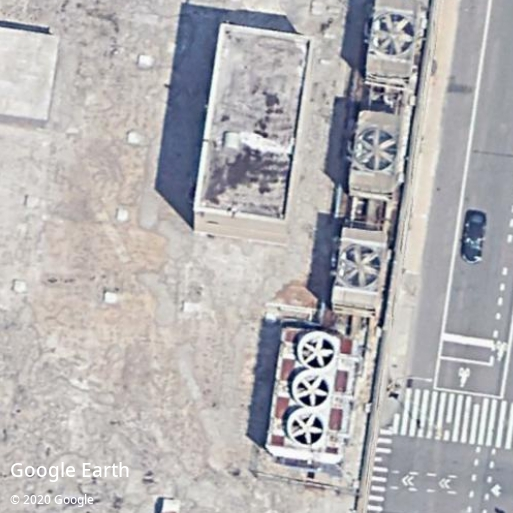Vent: (337, 243, 381, 289), (370, 12, 415, 55), (354, 128, 398, 171), (298, 331, 337, 371), (292, 370, 331, 408), (287, 408, 326, 446)
